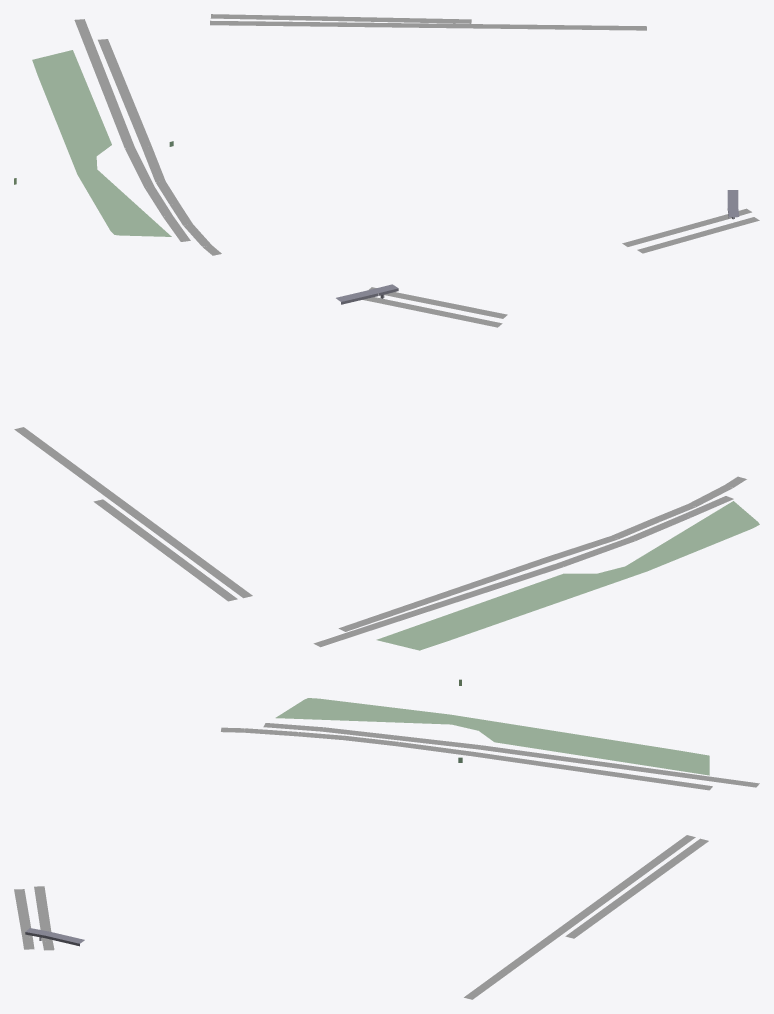
The picture shows the model from 3 angles, top to bottom: view 1: azimuth 30°, elevation 25°; view 2: azimuth 150°, elevation 25°; view 3: azimuth 270°, elevation 25°; orthographic projection. The views are drawn at different scales.
Size of the model in its own units: 491 by 8.65 by 494.
